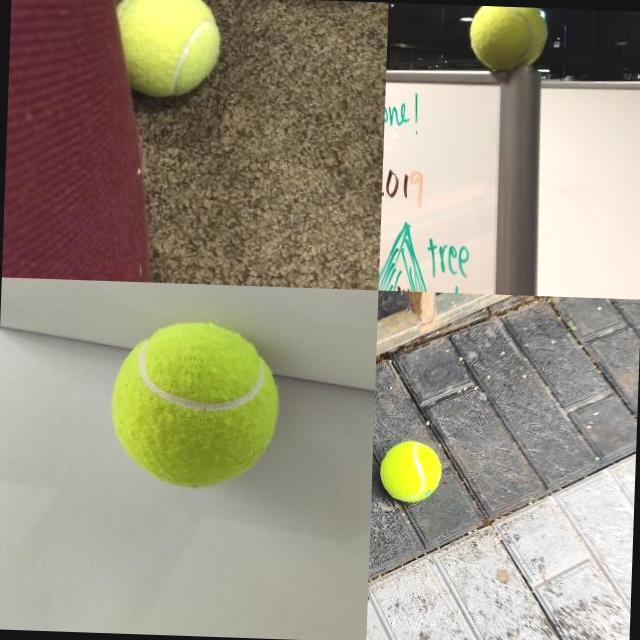tennis-ball: (107, 318, 281, 491), (128, 0, 222, 99), (467, 5, 550, 72), (378, 439, 442, 503)
